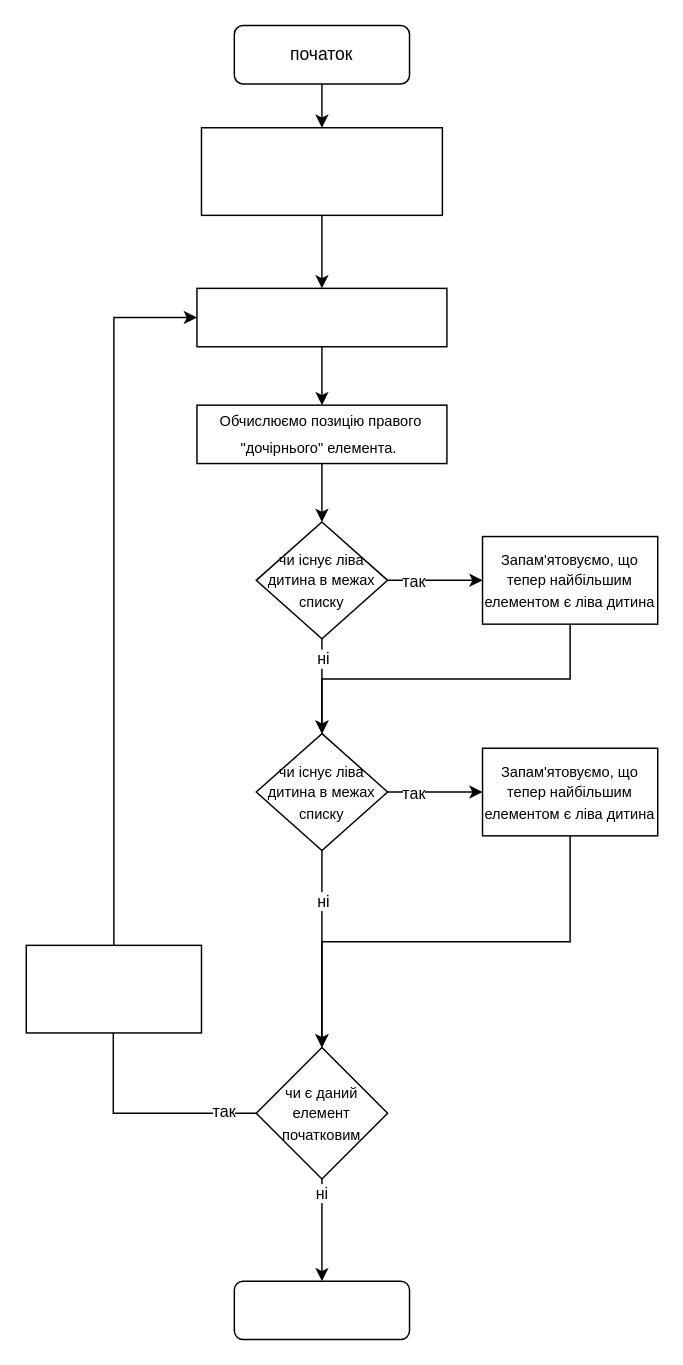
The diagram is 683 pixels wide and 1365 high, and some of its shapes have lost their labels. Each missing label, with the centre of its shape:
вважаємо, що найбільший елемент знаходиться на поточній позиції: (321,170)
кінець роботи: (321,1310)
Міняємо місцями значення поточного елемента зі значенням найбільшого елемента,: (113,988)
Обчислюємо позицію лівого "дочірнього" елемента.: (321,317)
